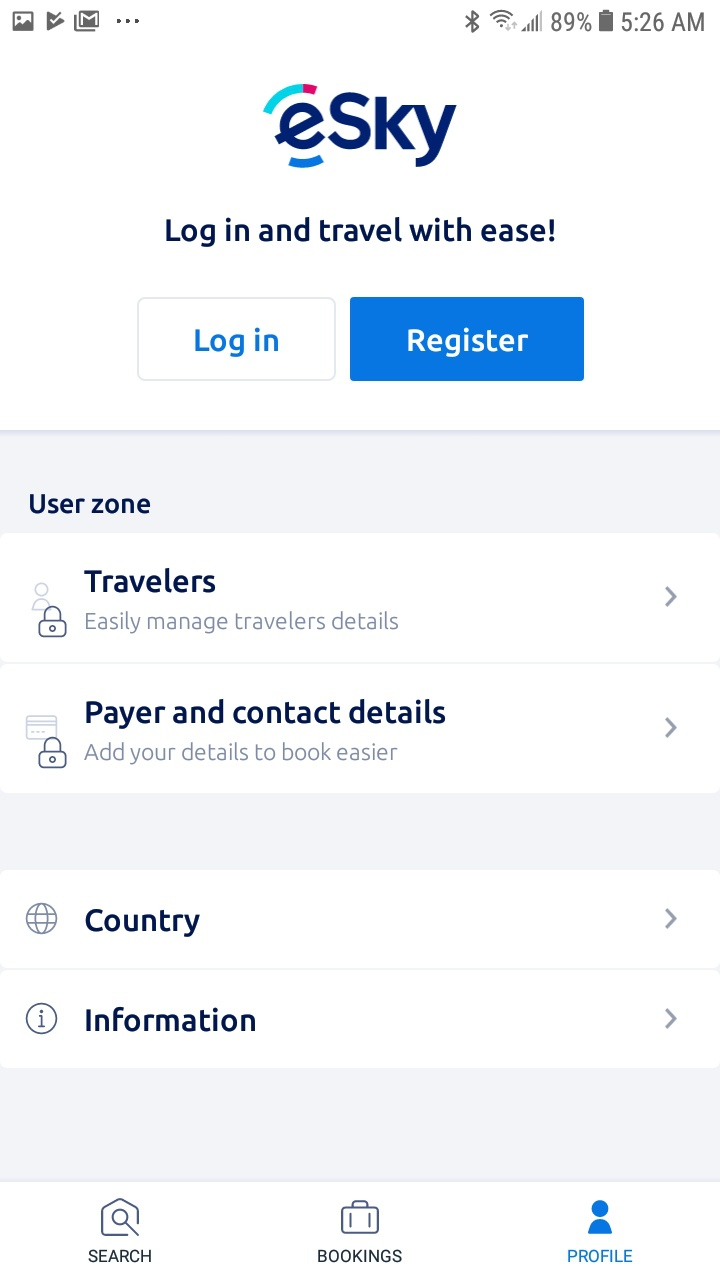Icon: (26, 715, 69, 770), (32, 582, 69, 639), (101, 1197, 141, 1237), (340, 1199, 380, 1235), (26, 1002, 59, 1035), (587, 1199, 613, 1235), (664, 585, 678, 608), (664, 716, 678, 739), (665, 907, 678, 930), (665, 1008, 678, 1030)
Image: (262, 84, 458, 170), (26, 902, 59, 935)
Text: (166, 217, 555, 249), (87, 698, 447, 730), (84, 741, 399, 766), (86, 610, 399, 634), (86, 1006, 257, 1033), (84, 567, 217, 594), (85, 908, 201, 938), (30, 494, 152, 516), (318, 1248, 403, 1263), (567, 1248, 633, 1263), (88, 1248, 153, 1263)
TextButton: (350, 297, 585, 382), (138, 297, 337, 382)
UpperTaskBar: (1, 1, 720, 35)
